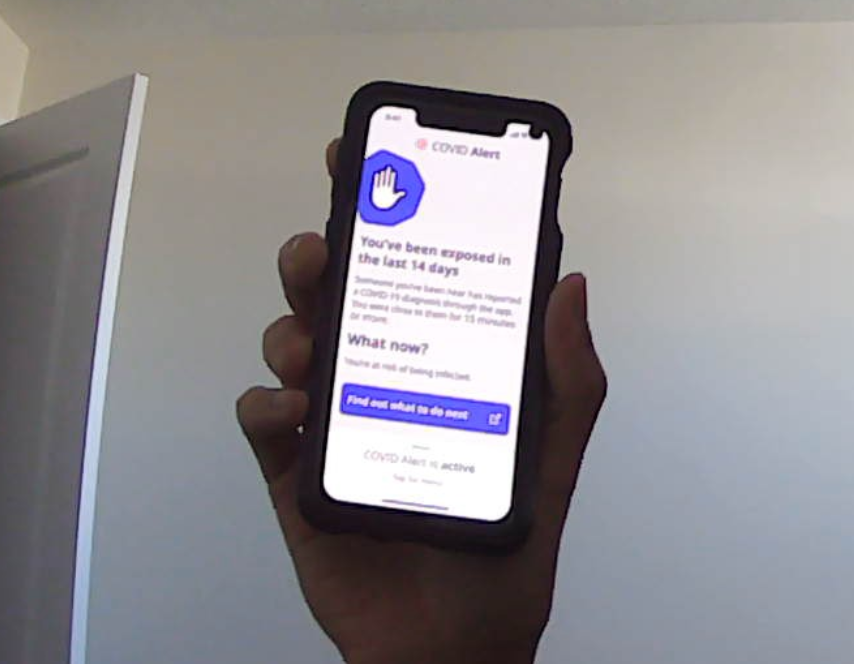Exposed: (349, 141, 545, 284)
